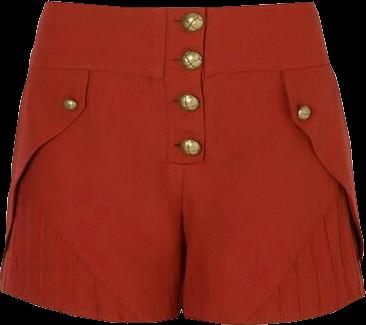Hemline: (281, 69, 364, 261), (4, 72, 91, 246), (0, 287, 180, 322), (182, 292, 365, 324)
Pantleg: (0, 1, 205, 322), (179, 2, 364, 324)
Waistline: (19, 174, 144, 322), (239, 188, 344, 324), (27, 62, 331, 77), (43, 0, 315, 10)
